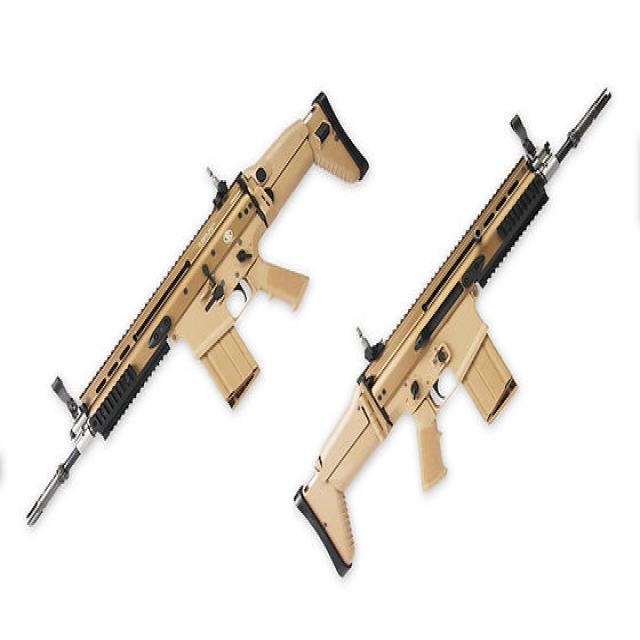Gun: (257, 89, 607, 548), (2, 74, 370, 509)
